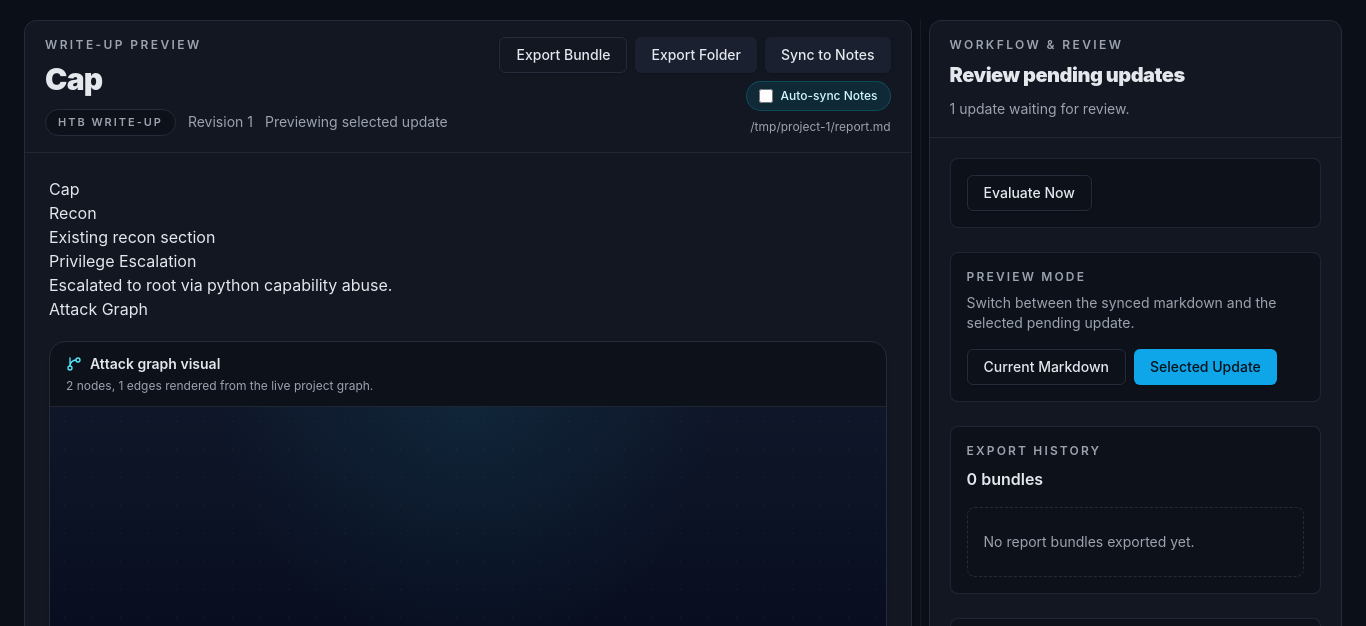
ReportsPage › shows backend details when bundle export fails
This screenshot has width=1366, height=626.
Click the button "Export Bundle": (564, 55) [500,37,628,73]
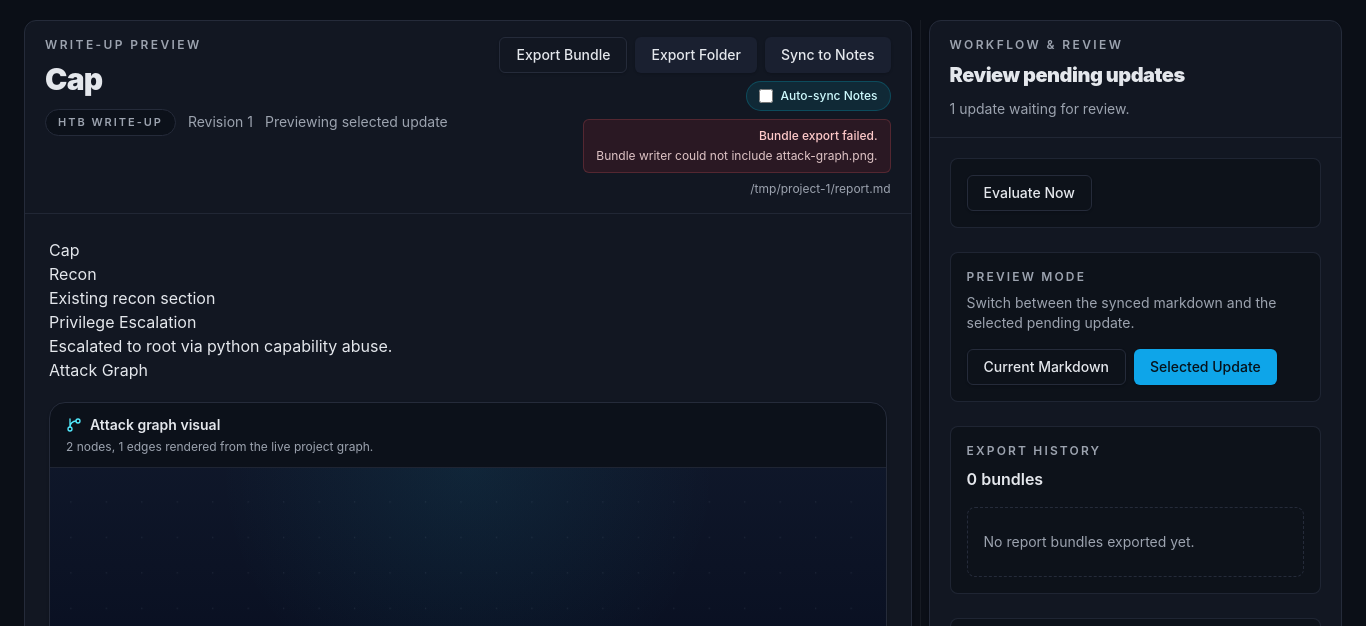
Check: the text "Bundle export failed." is shown, box [759,128,878,143]
Check: the text "Bundle writer could not include attack-graph.png." is shown, box [596,148,878,164]
